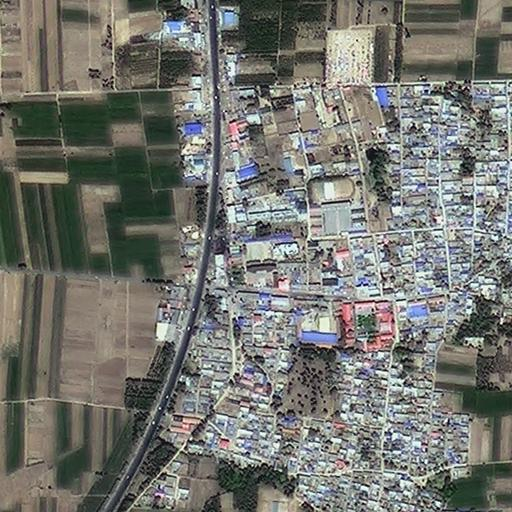school: (306, 172, 367, 237), (246, 238, 280, 287)
